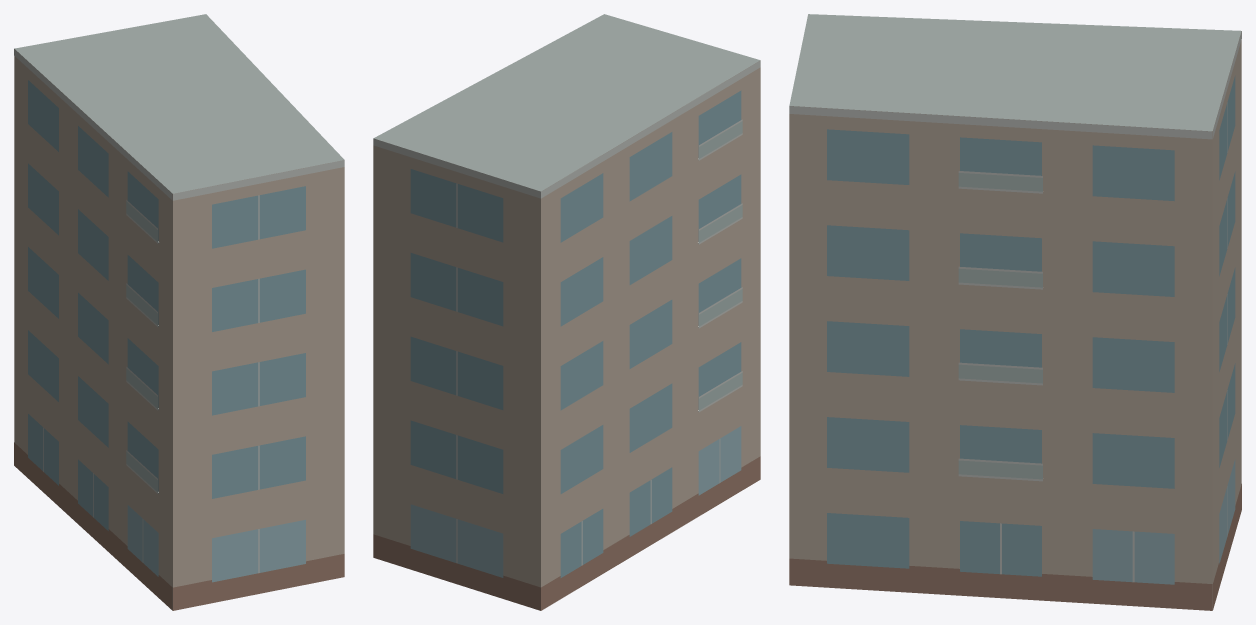
Rendered from survey-upis-32541419.glb.
3 views of the same model, side by side, from view 1: azimuth 30°, elevation 25°; view 2: azimuth 150°, elevation 25°; view 3: azimuth 270°, elevation 25° (orthographic). The views are drawn at different scales.
Parts seen in each view (by area): view 1: survey-upis-32541419.tmp; view 2: survey-upis-32541419.tmp; view 3: survey-upis-32541419.tmp.
Boxes of the visible parts, x1,y1,x2,y2 form: survey-upis-32541419.tmp: (14,14,344,610); survey-upis-32541419.tmp: (373,14,760,610); survey-upis-32541419.tmp: (789,14,1241,610).
Size of the model in its own units: 7.64 by 14.53 by 12.43.
